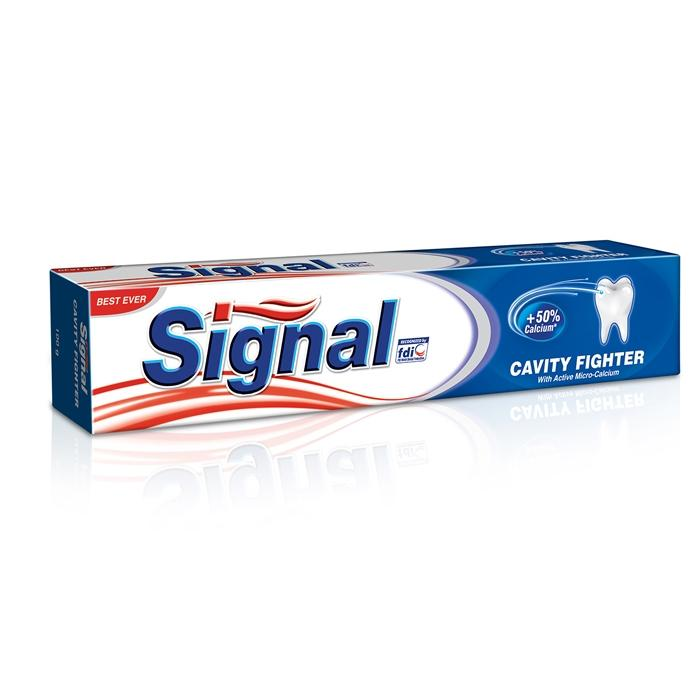toothpaste: (41, 213, 687, 440)
